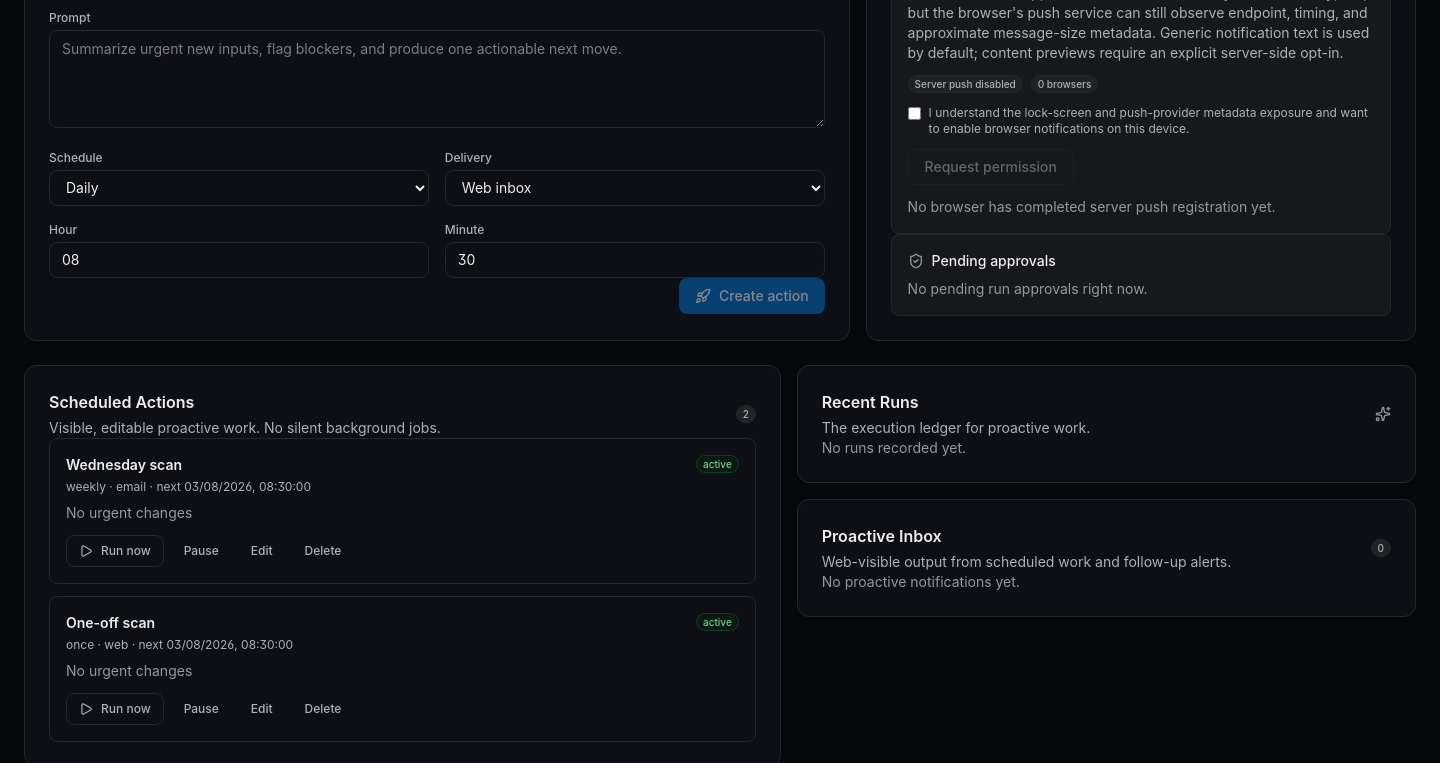
Test: PulsePage › loads an action into the composer, updates it, and supports cancel and delete reset
(page scrolled)
Expected: the heading "Wednesday scan" is shown, [66, 456, 182, 473]
Click the button "Edit" below "weekly".
click(262, 551)  # box [239, 535, 285, 567]
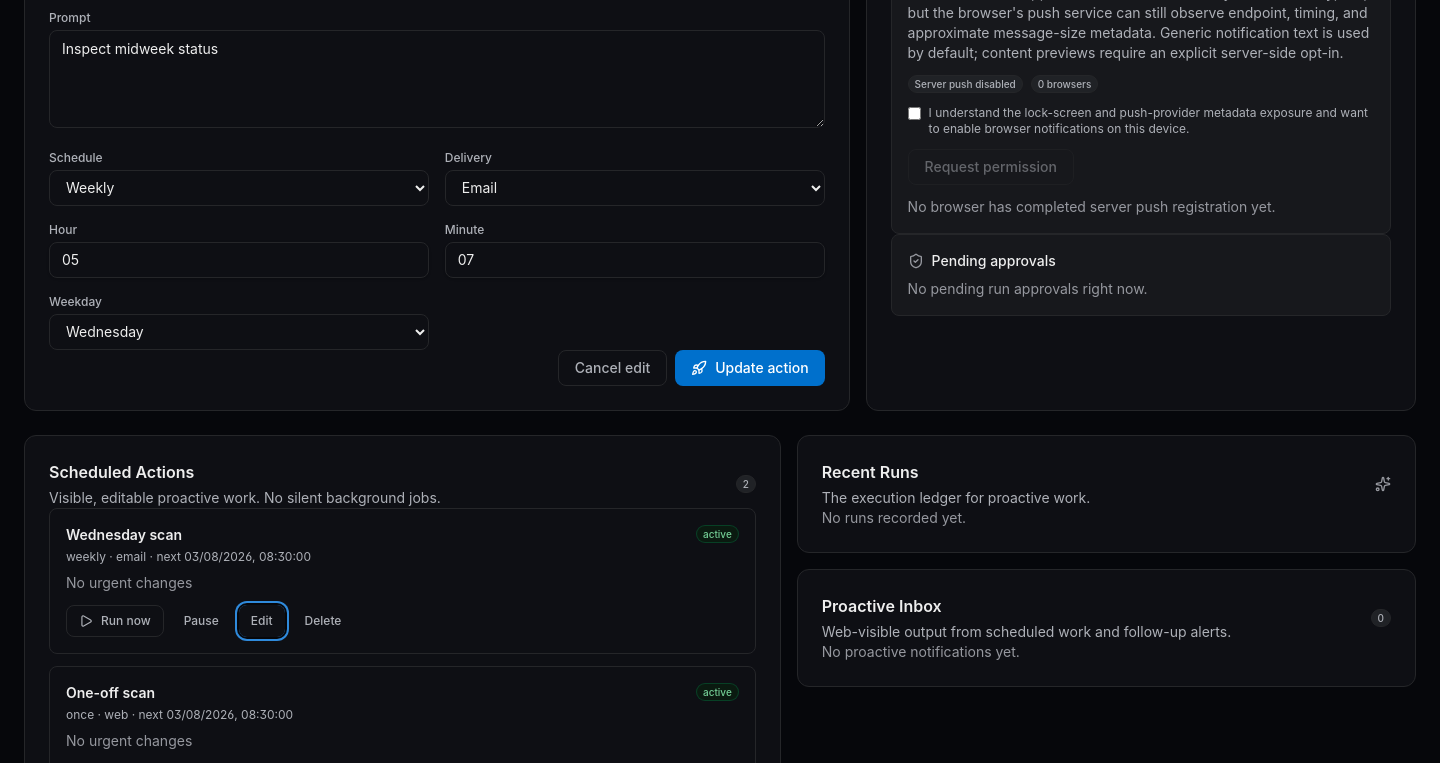
Expected: the text box named "Scheduled action prompt" holds "Inspect midweek status"
Expected: the dropdown named "Scheduled action frequency" shows "Weekly", [49, 170, 429, 206]
Expected: the dropdown named "Scheduled action delivery channel" shows "Email", [445, 170, 825, 206]
Replace the text in the text box named "Scheduled action prompt" with "Updated midweek status" at (437, 79), box [49, 30, 825, 128]
Click the button "Update action".
click(750, 368)  # box [675, 350, 825, 386]
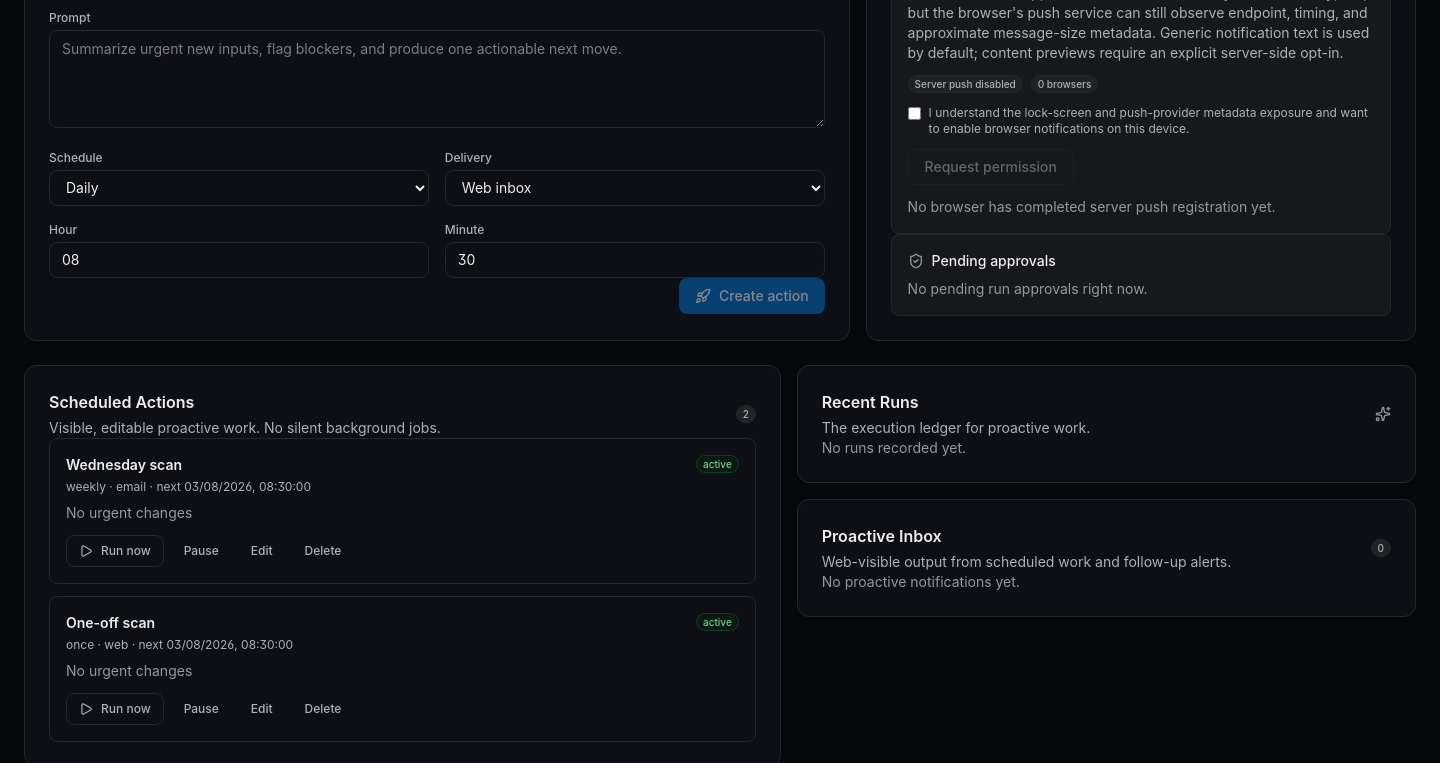
Expected: the button "Create action" is shown, [679, 278, 825, 314]
Click the button "Edit" below "once".
click(262, 709)  # box [239, 693, 285, 725]
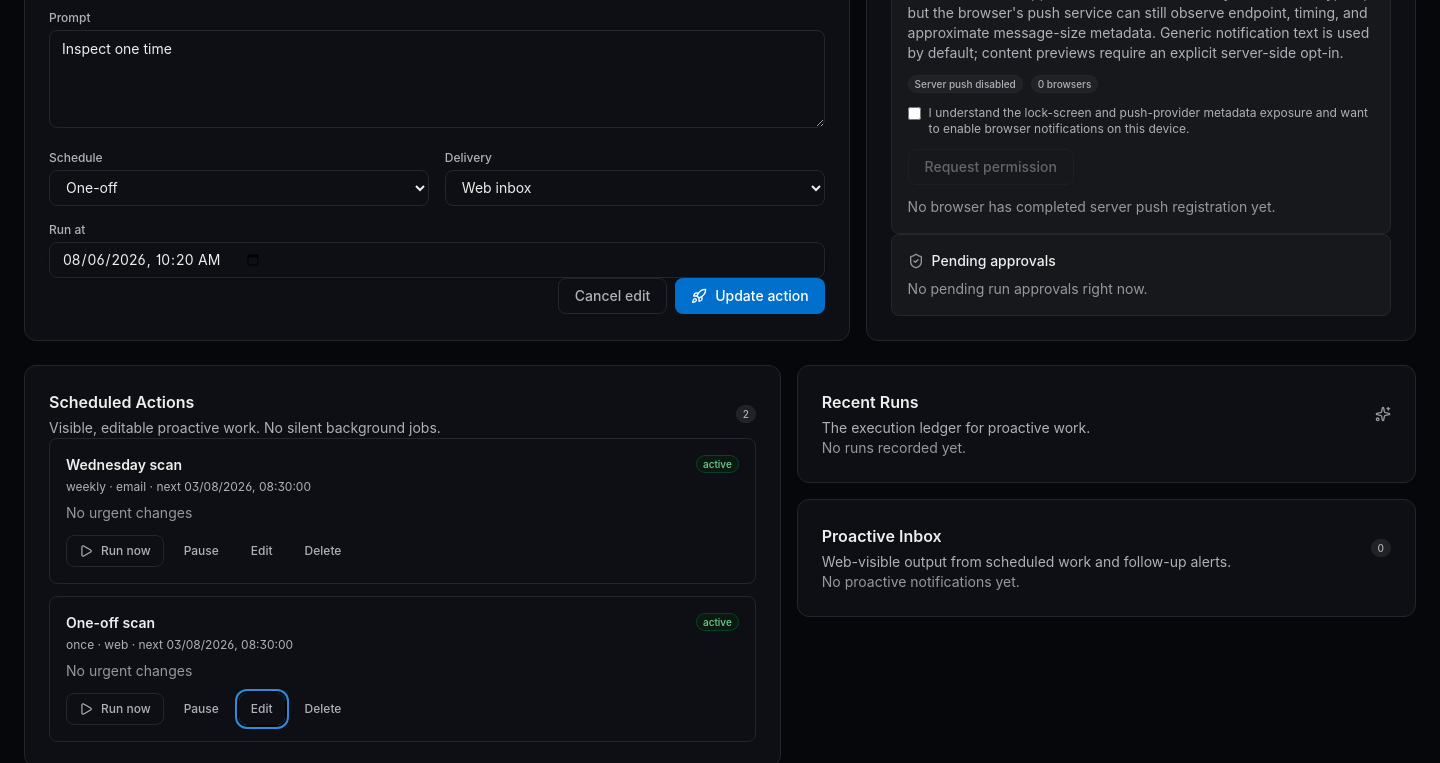
Expected: the field named "Scheduled action run time" holds "2026-08-06T10:20", [49, 242, 825, 278]
Click the button "Cancel edit".
click(612, 296)  # box [558, 278, 667, 314]
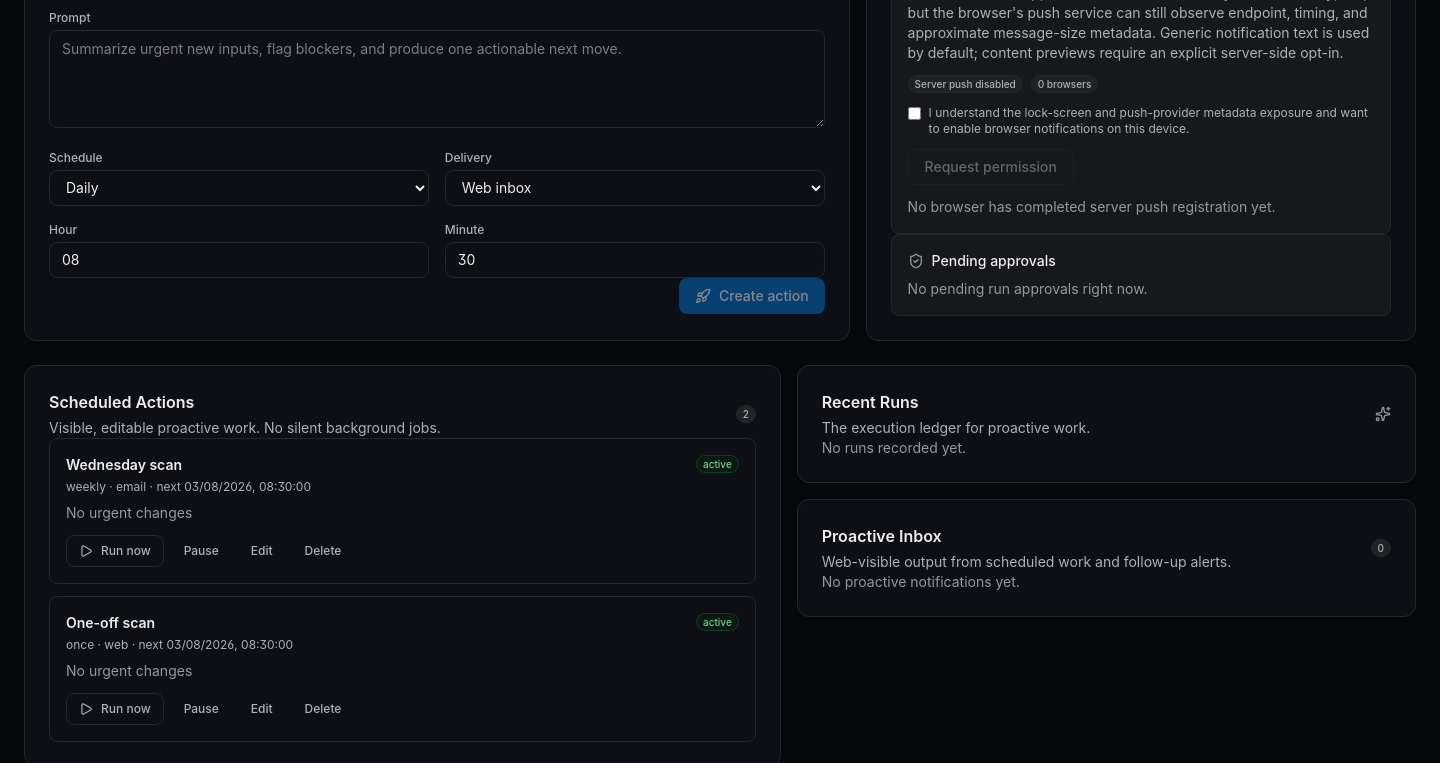
Expected: the dropdown named "Scheduled action frequency" shows "Daily", [49, 170, 429, 206]
Click the button "Edit" below "weekly".
click(262, 551)  # box [239, 535, 285, 567]
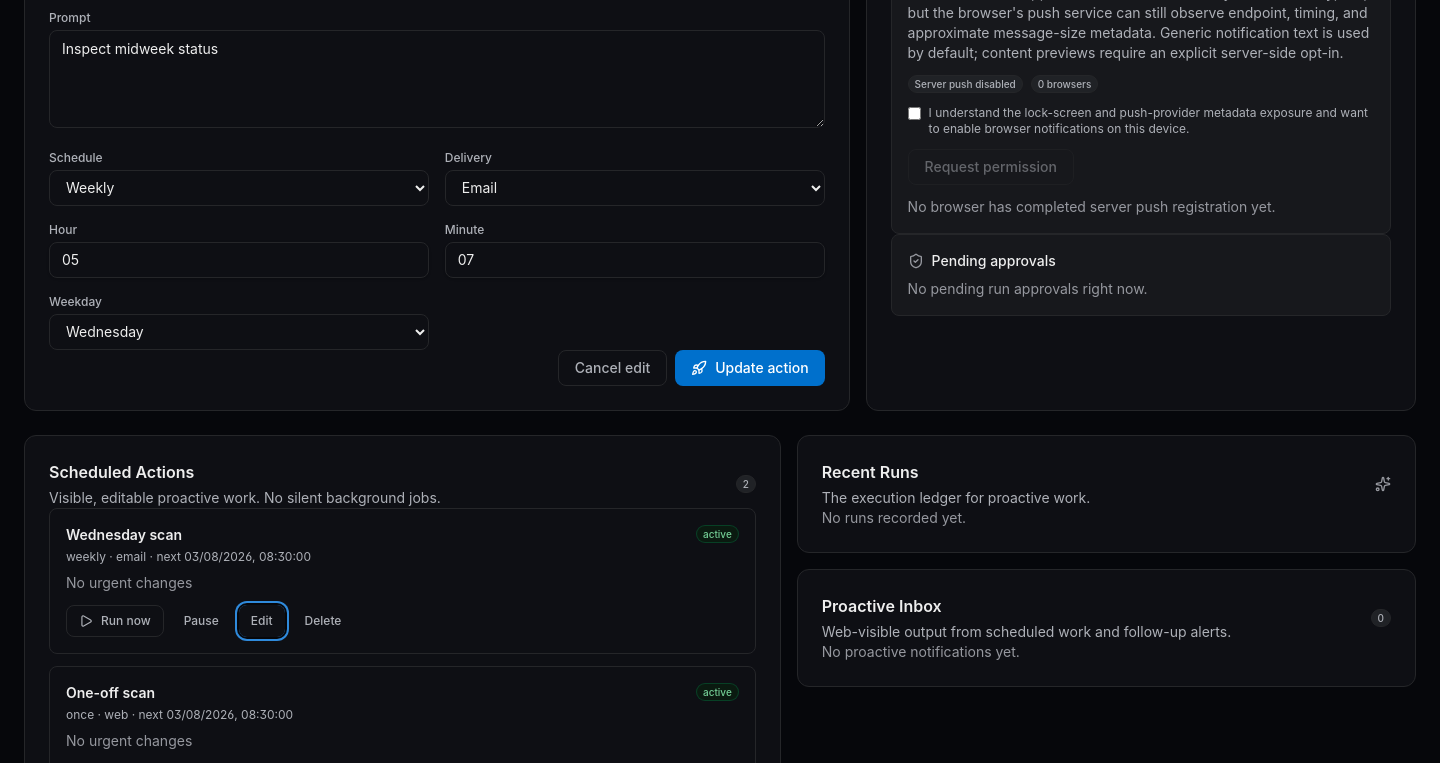
Click the button "Delete" below "weekly".
click(323, 621)  # box [293, 605, 353, 637]
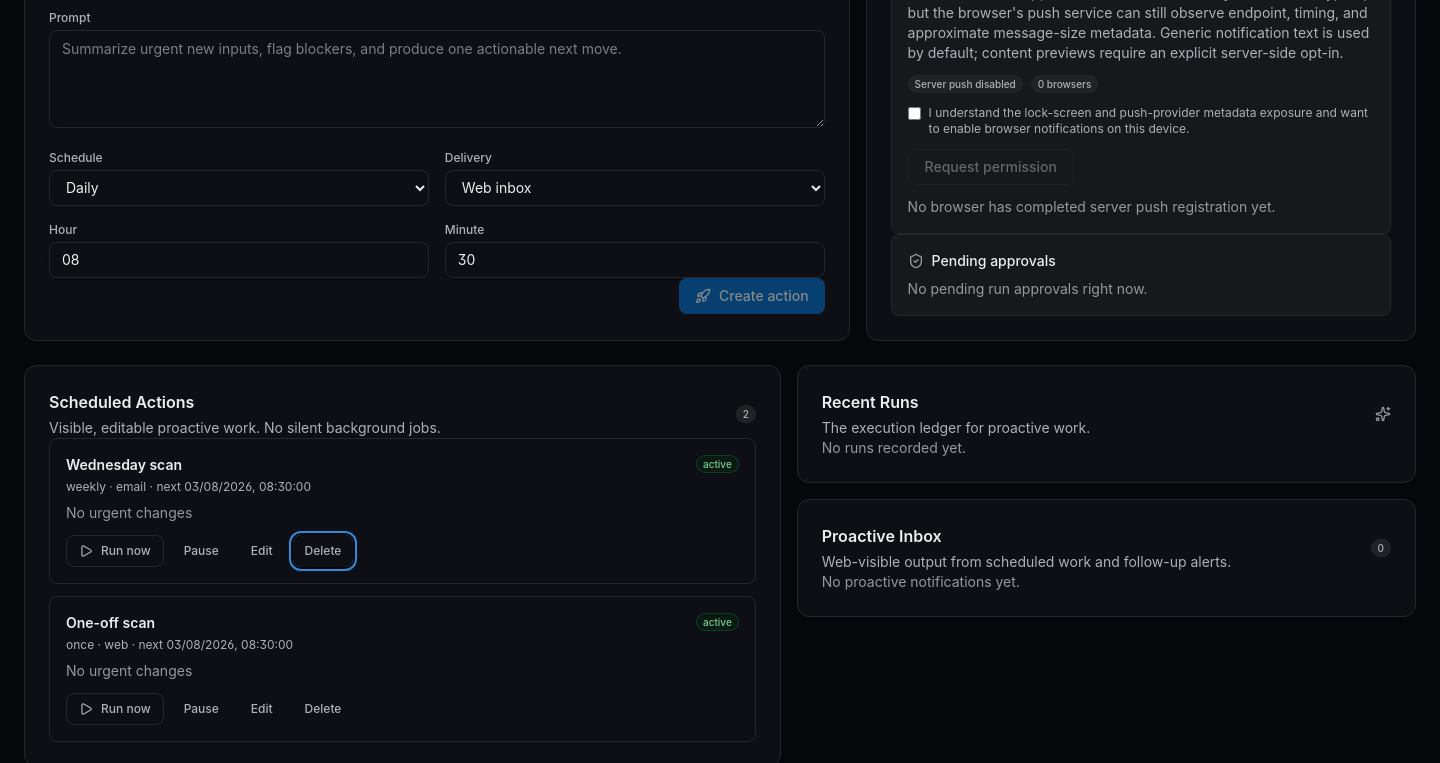
Expected: the button "Create action" is shown, [679, 278, 825, 314]
